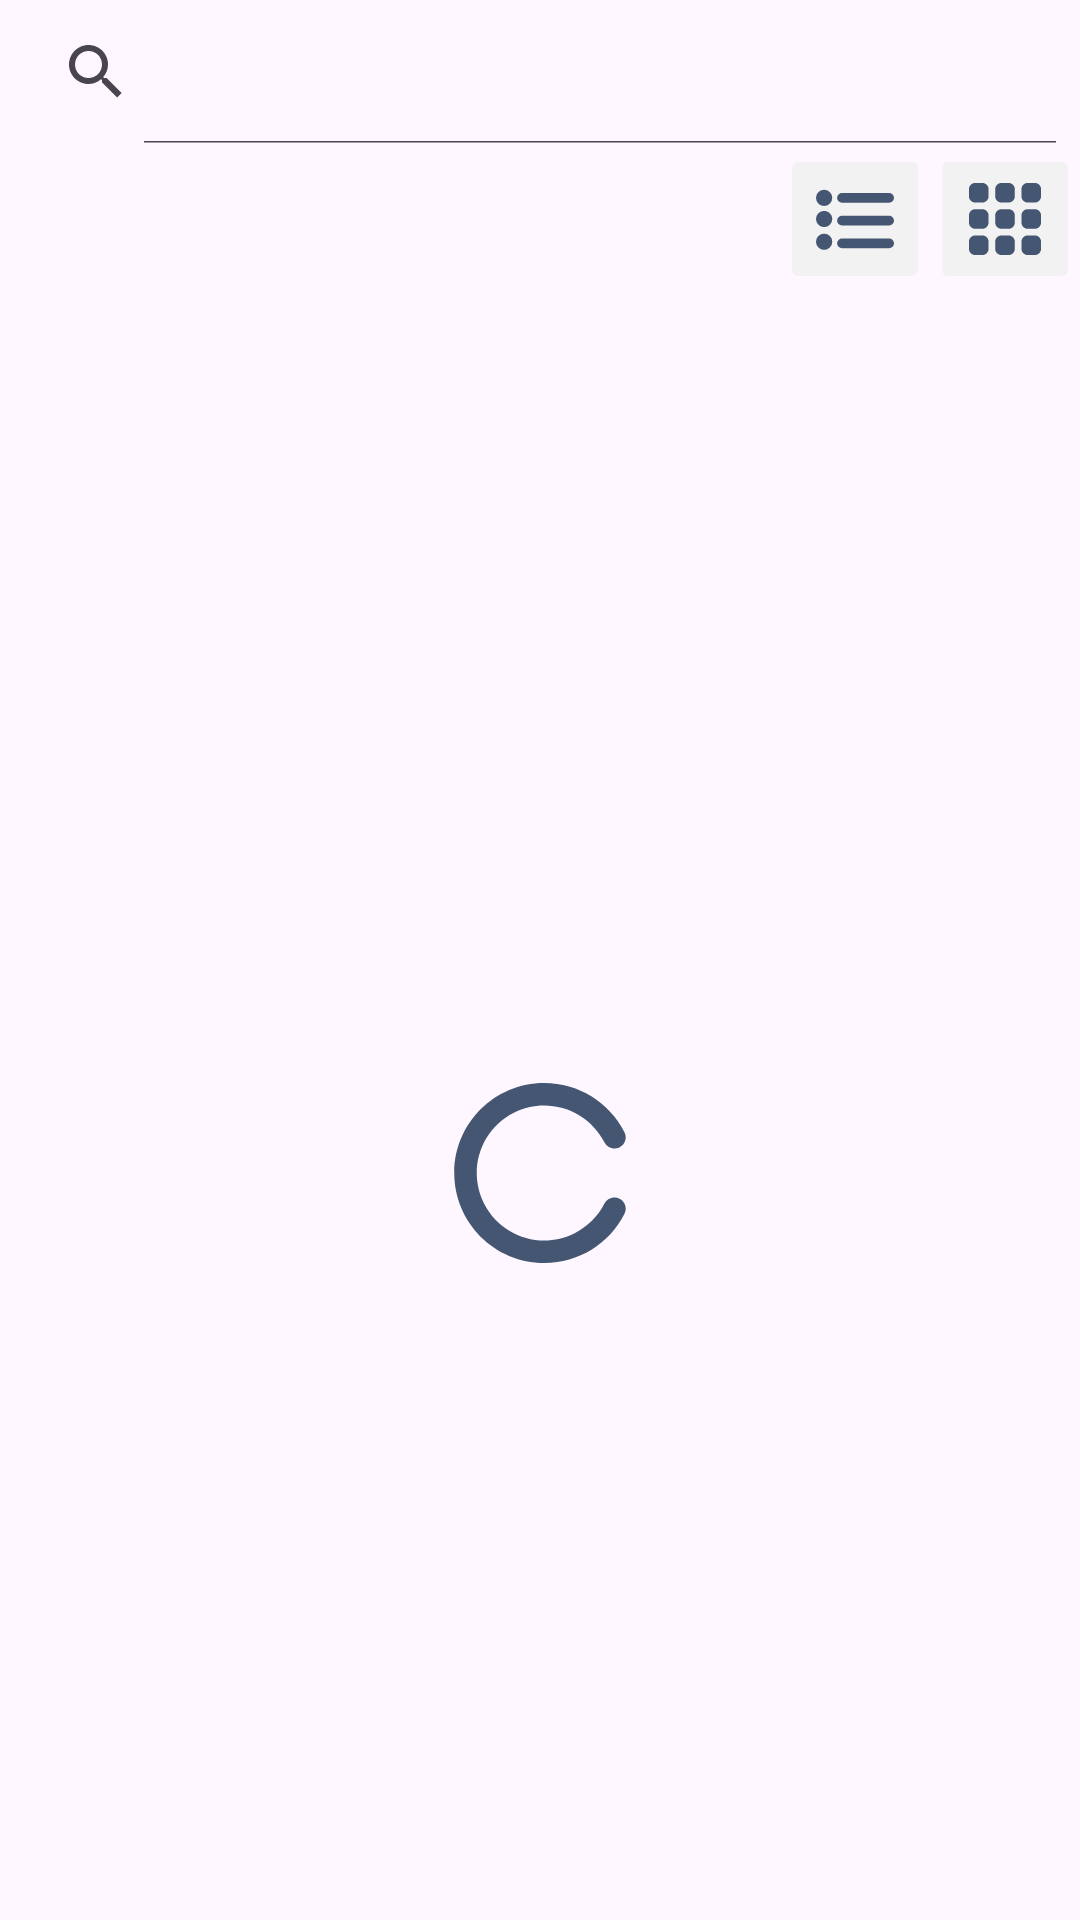

Screen size 1080px×1920px. Icon name, then its box in pixels as detection(x1, y1, x2, y2):
grid: detection(969, 183, 1041, 255)
list: detection(816, 189, 894, 250)
